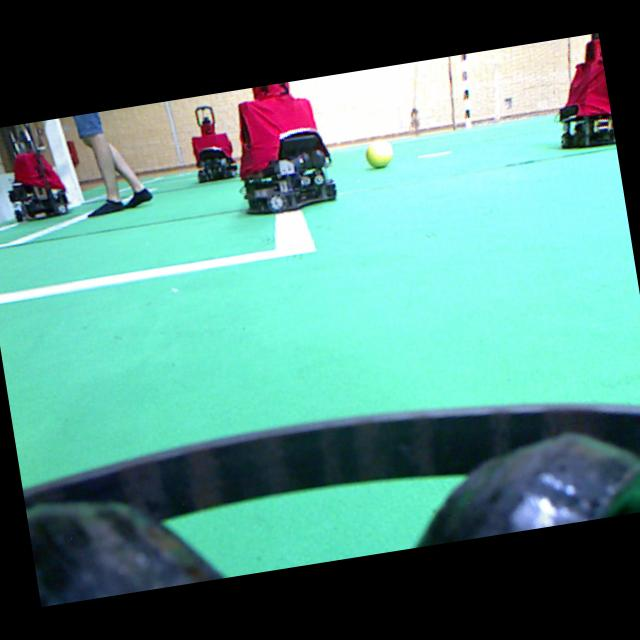ball: (366, 141, 392, 168)
